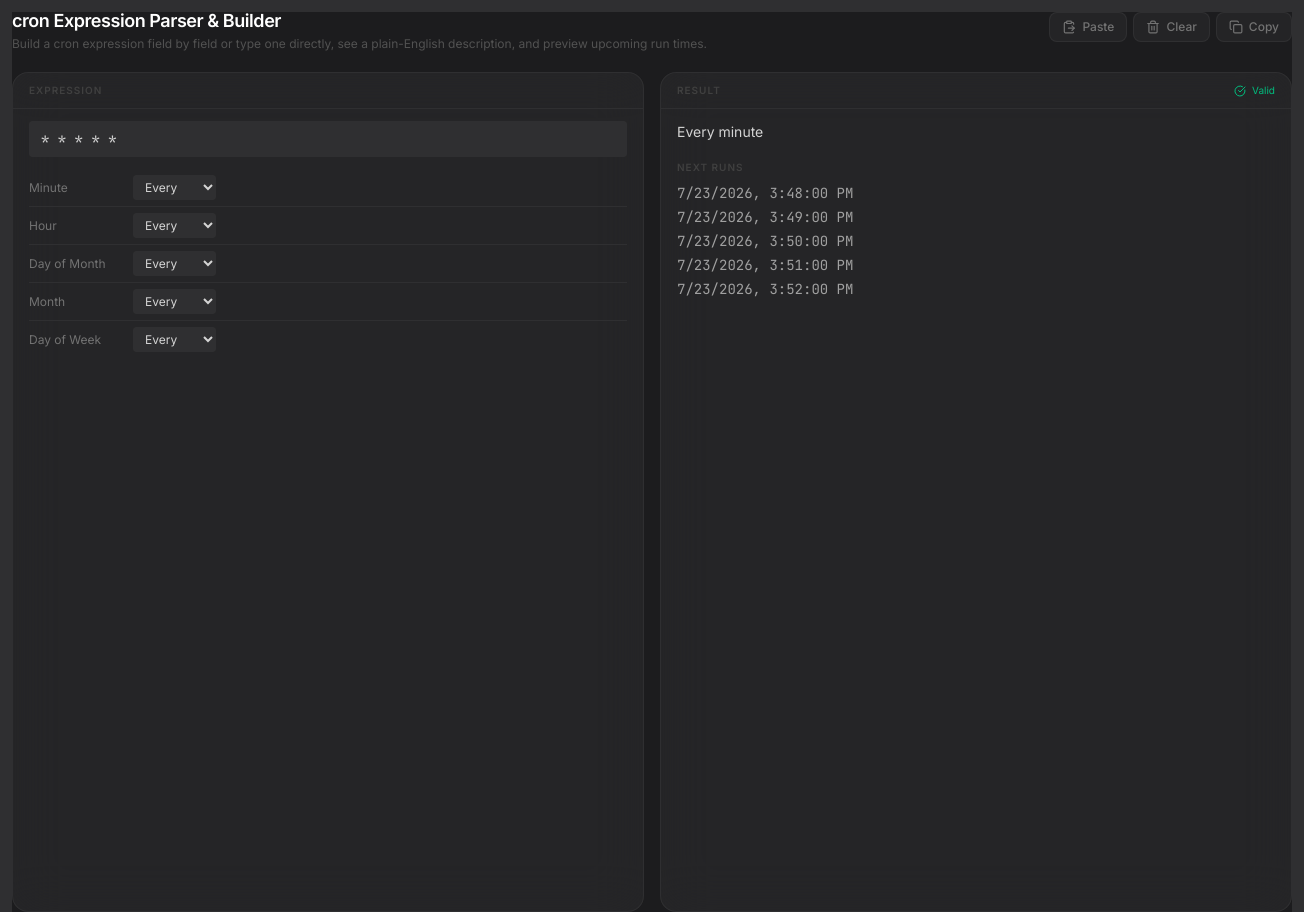
Scenario: CronBuilderTool › pastes text into the expression field when Paste button is clicked
Click the button titled "Paste from clipboard" at (1088, 27), box [1049, 12, 1127, 42]
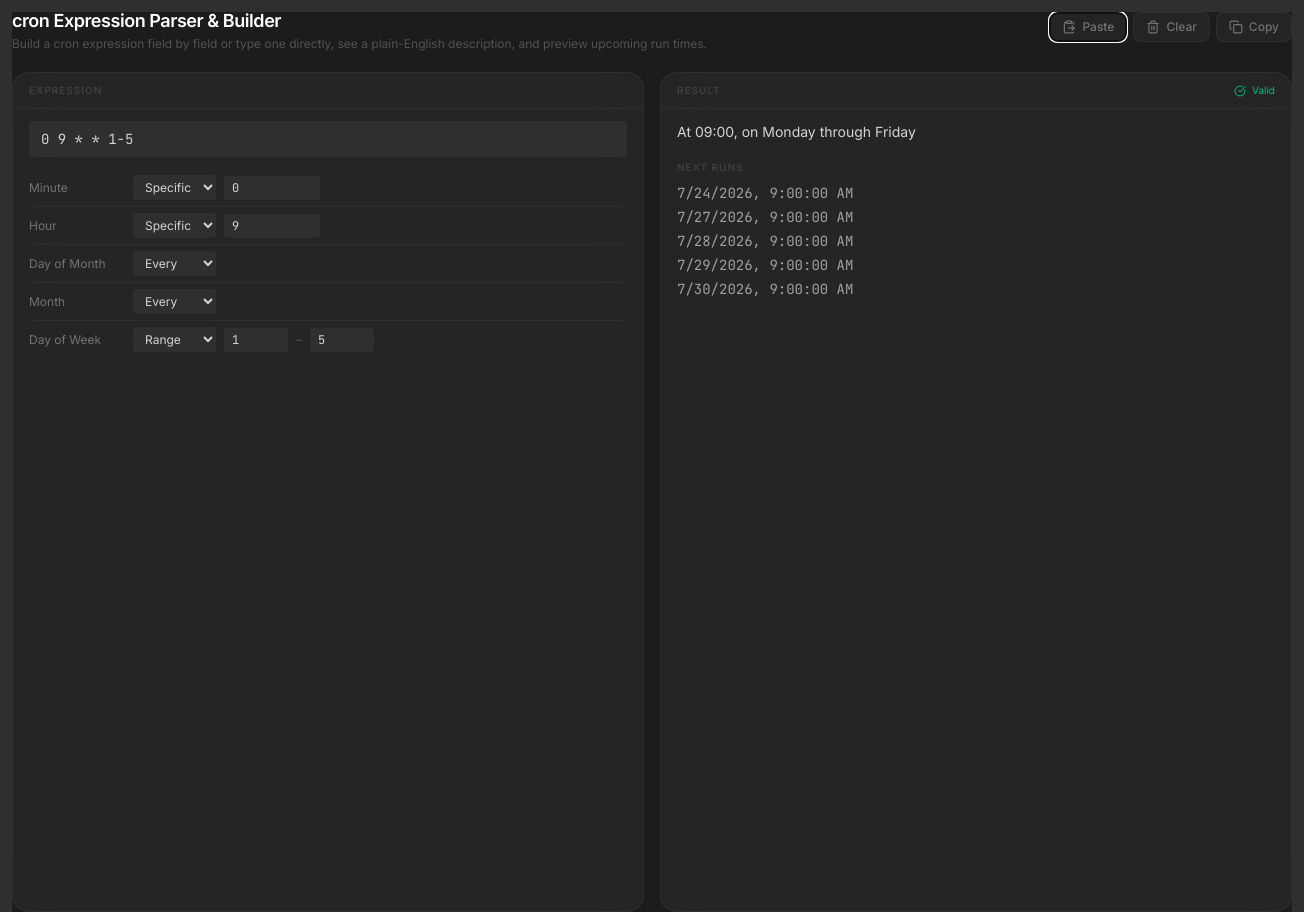
Now the field with placeholder "*/15 9-17 * * 1-5" holds "0 9 * * 1-5", box [29, 121, 627, 157]
